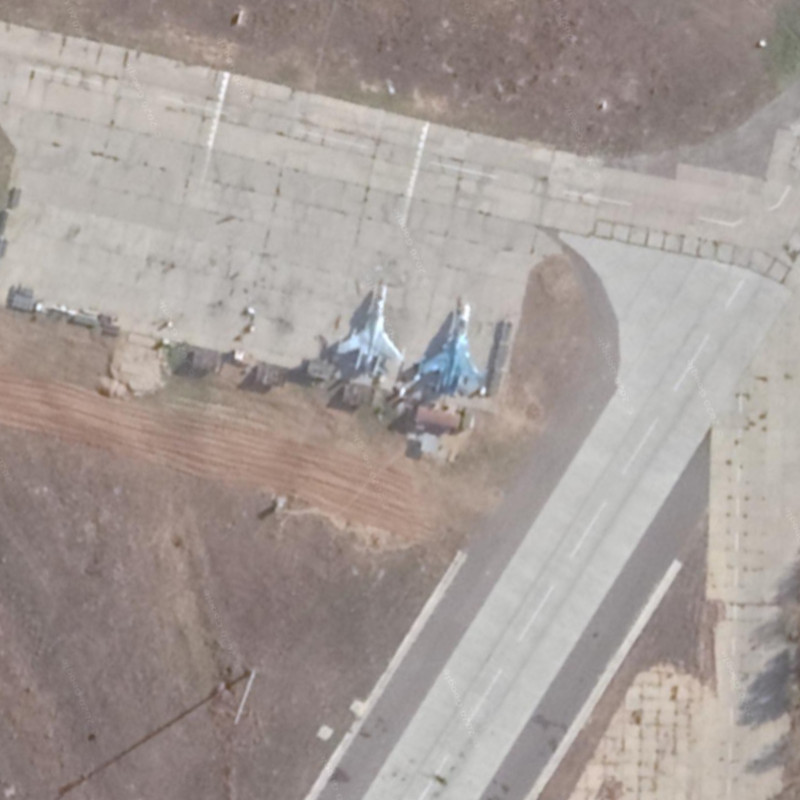A1: (326, 276, 407, 381), (413, 299, 491, 395)
